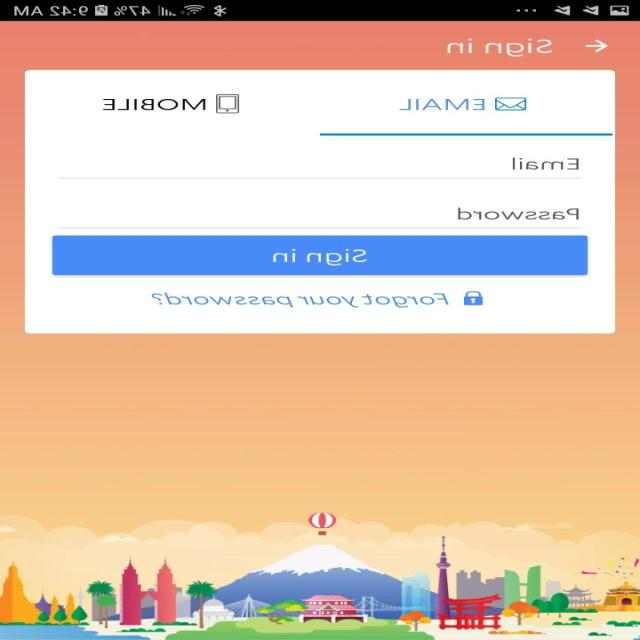BackgroundImage: (1, 21, 640, 639)
EditText: (58, 206, 582, 228), (58, 157, 582, 179)
Icon: (216, 94, 240, 114), (494, 97, 527, 111), (585, 39, 609, 53), (464, 290, 484, 306)
Image: (1, 512, 640, 640)
Text: (151, 292, 450, 308), (447, 37, 554, 57), (458, 207, 578, 219), (103, 98, 206, 111), (399, 98, 485, 111), (512, 157, 580, 170)
TextButton: (52, 235, 588, 276)
